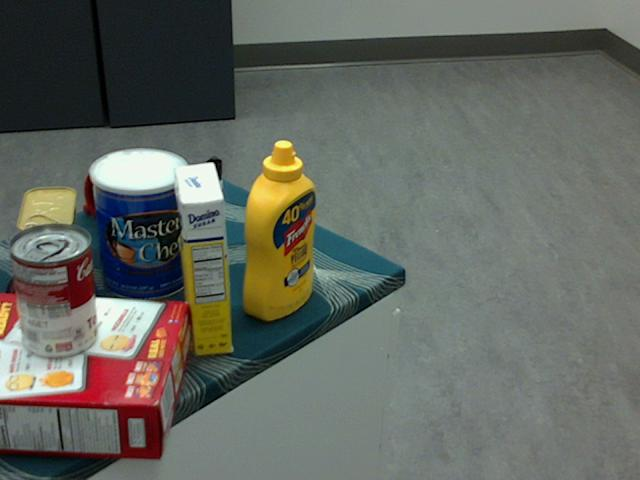cracker_box: (0, 290, 189, 459)
large_marker: (206, 155, 225, 249)
master_chef_can: (87, 147, 190, 302)
mug: (82, 149, 174, 234)
mustard_bottle: (241, 138, 316, 320)
potted_meat_can: (17, 185, 78, 293)
sugar_box: (174, 160, 232, 356)
tomato_soup_can: (8, 223, 97, 358)
tuna_fish_can: (5, 255, 97, 342)
